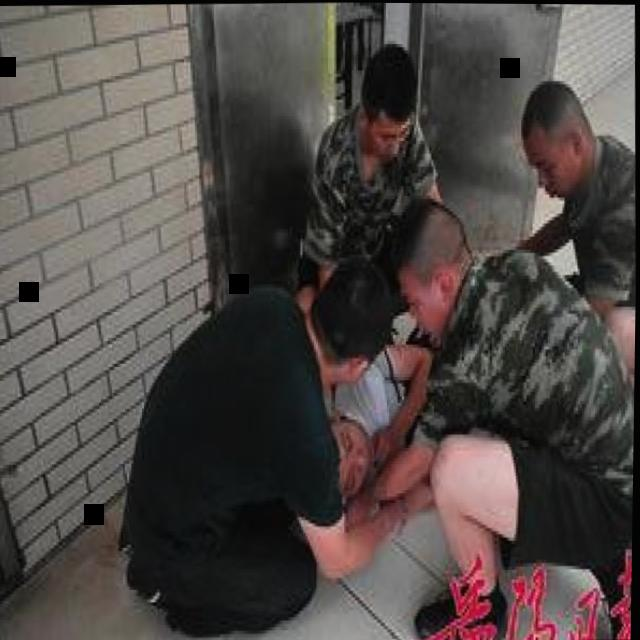Fall-Detected: (293, 313, 451, 543)
